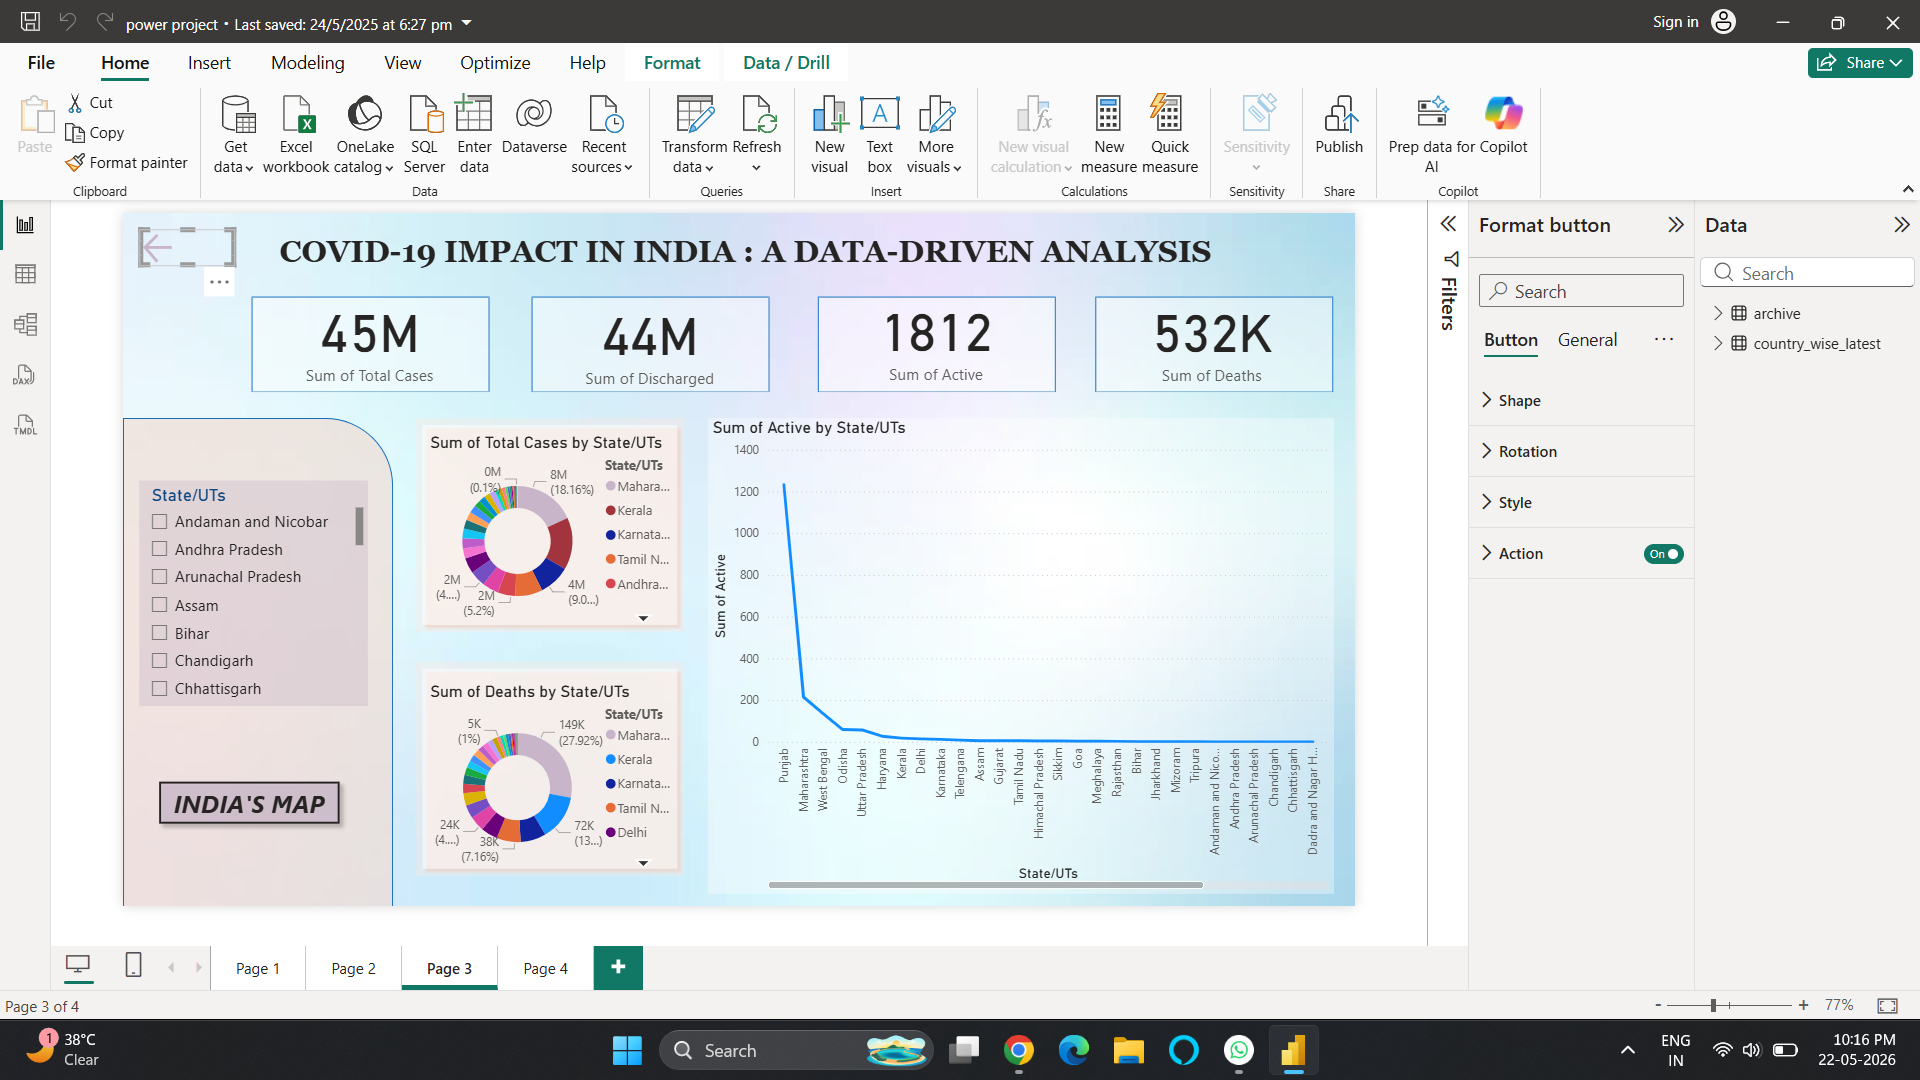

Layout of this report page (visuals, bound fields, positions):
{"tool":"powerbi","page":{"name":"Page 3","canvas":[1280,720],"ordinal":2},"visuals":[{"type":"shape","box":[0,212.5,280.6,508.3],"z":0},{"type":"slicer","fields":{"Values":["archive.State/UTs"]},"box":[16.7,277.8,237.5,234.7],"z":1000},{"type":"actionButton","box":[16.4,16.4,100,39.7],"z":2000},{"type":"textbox","box":[116.2,16.2,1163.8,68.8],"z":3000},{"type":"shape","box":[28.8,582.2,205.5,61.6],"z":4000},{"type":"lineChart","fields":{"Category":["archive.State/UTs"],"Y":["Sum(archive.Active)"]},"box":[608.3,212.5,650,494.4],"z":5000},{"type":"shape","box":[304.2,466.7,279.2,222.2],"z":6000},{"type":"shape","box":[304.2,212.5,279.2,222.2],"z":7000},{"type":"donutChart","fields":{"Y":["Sum(archive.Deaths)"],"Category":["archive.State/UTs"]},"box":[313.9,487.5,269.4,201.4],"z":8000},{"type":"donutChart","fields":{"Y":["Sum(archive.Total Cases)"],"Category":["archive.State/UTs"]},"box":[313.9,229.2,269.4,205.6],"z":9000},{"type":"shape","box":[422.5,85,251.2,103.8],"z":10000},{"type":"shape","box":[720,85,251.2,103.8],"z":11000},{"type":"shape","box":[1007.5,85,251.2,103.8],"z":12000},{"type":"shape","box":[131.2,85,251.2,103.8],"z":13000},{"type":"card","fields":{"Values":["Sum(archive.Deaths)"]},"box":[1007.5,77.5,247.5,103.8],"z":14000},{"type":"card","fields":{"Values":["Sum(archive.Active)"]},"box":[720,76.2,251.2,103.8],"z":15000},{"type":"card","fields":{"Values":["Sum(archive.Discharged)"]},"box":[422.5,76.2,251.2,112.5],"z":16000},{"type":"card","fields":{"Values":["Sum(archive.Total Cases)"]},"box":[132.1,77.8,248.1,103.7],"z":17000}]}

Visuals, with their boxes on the page's 1280x720 design canvas (x1, y1, x2, y2). These are canvas units, not pixel positions in the 1920x1080 screenshot, which may show the page scaled, cropped or inside an application window:
shape: rect(0, 212, 281, 721)
slicer - archive.State/UTs: rect(17, 278, 254, 512)
actionButton: rect(16, 16, 116, 56)
textbox: rect(116, 16, 1280, 85)
shape: rect(29, 582, 234, 644)
lineChart - archive.State/UTs x Sum(archive.Active): rect(608, 212, 1258, 707)
shape: rect(304, 467, 583, 689)
shape: rect(304, 212, 583, 435)
donutChart - Sum(archive.Deaths) x archive.State/UTs: rect(314, 488, 583, 689)
donutChart - Sum(archive.Total Cases) x archive.State/UTs: rect(314, 229, 583, 435)
shape: rect(422, 85, 674, 189)
shape: rect(720, 85, 971, 189)
shape: rect(1008, 85, 1259, 189)
shape: rect(131, 85, 382, 189)
card - Sum(archive.Deaths): rect(1008, 78, 1255, 181)
card - Sum(archive.Active): rect(720, 76, 971, 180)
card - Sum(archive.Discharged): rect(422, 76, 674, 189)
card - Sum(archive.Total Cases): rect(132, 78, 380, 182)
